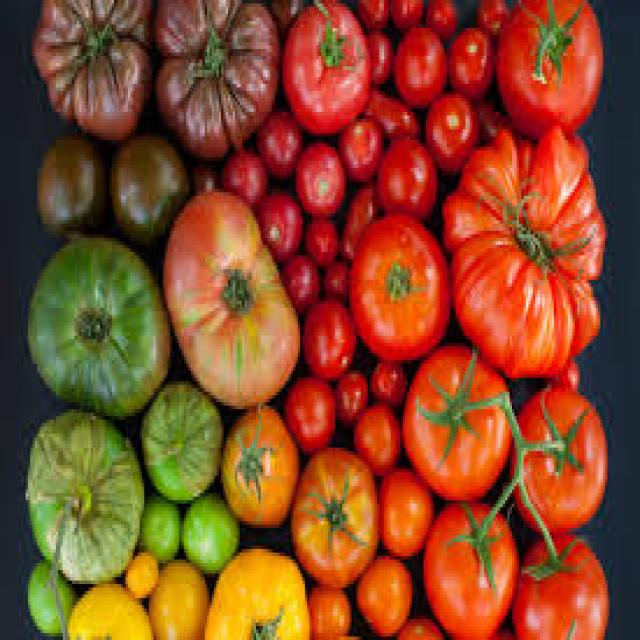Tomato: (445, 121, 598, 361), (163, 189, 299, 404), (21, 231, 170, 412), (285, 139, 368, 461), (355, 0, 494, 189), (21, 398, 151, 575), (361, 364, 436, 640), (147, 0, 265, 154), (410, 345, 525, 497), (352, 204, 454, 370), (33, 0, 154, 139), (513, 384, 611, 538), (277, 0, 376, 141), (500, 0, 605, 126), (287, 441, 377, 587), (197, 545, 332, 640), (136, 364, 225, 508), (215, 396, 306, 532), (33, 134, 129, 262), (428, 504, 516, 634), (110, 120, 186, 267), (520, 523, 608, 640), (53, 563, 149, 640), (181, 482, 250, 582), (139, 554, 213, 639), (17, 547, 81, 639), (134, 491, 188, 568), (119, 539, 163, 607)
